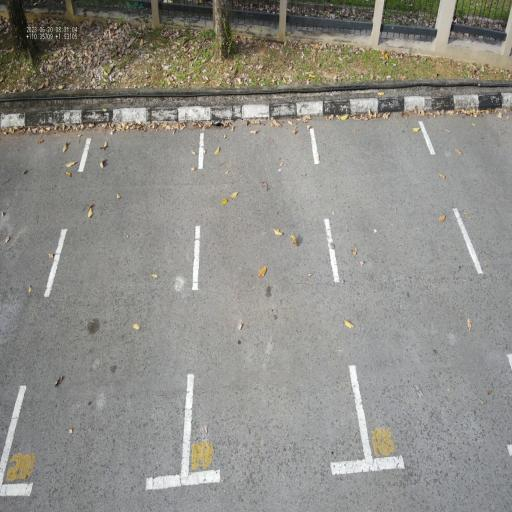Empty: (0, 106, 207, 509), (176, 101, 379, 493)
